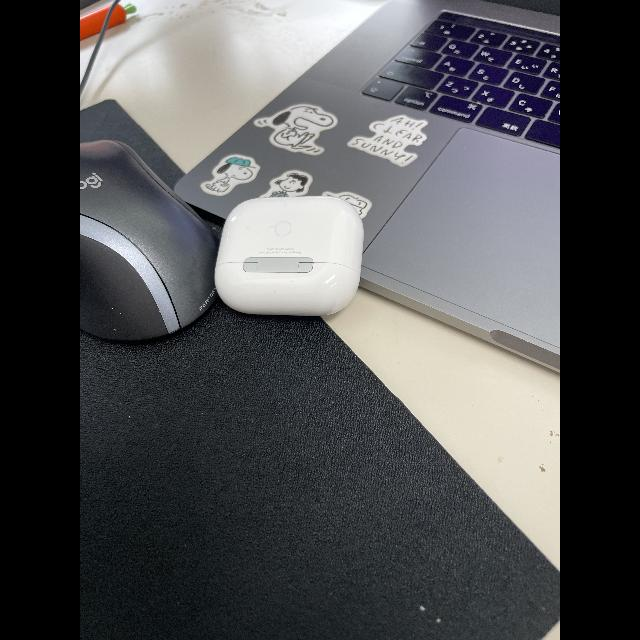airpod3: (208, 178, 378, 324)
